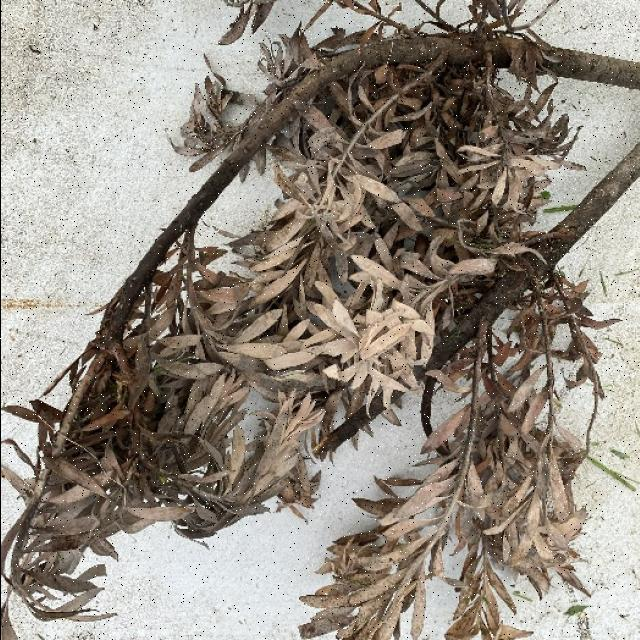organik: (0, 22, 634, 640)
